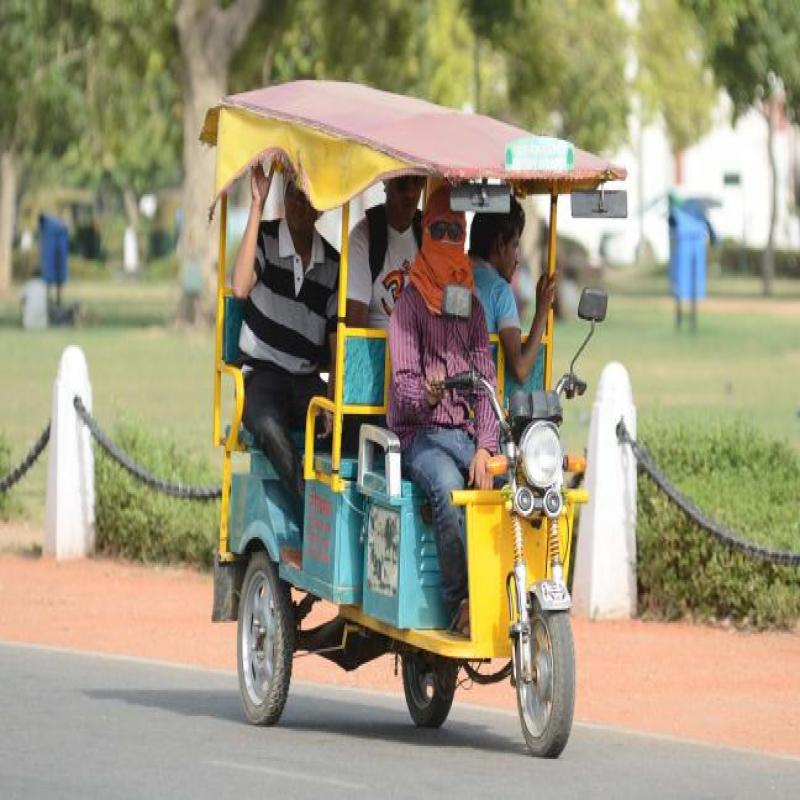auto: (192, 65, 582, 753)
